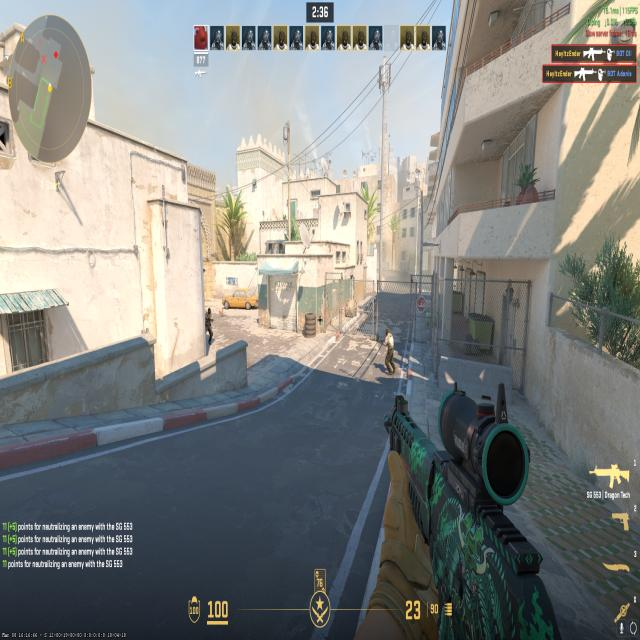t: (377, 325, 396, 380), (202, 305, 215, 347)
